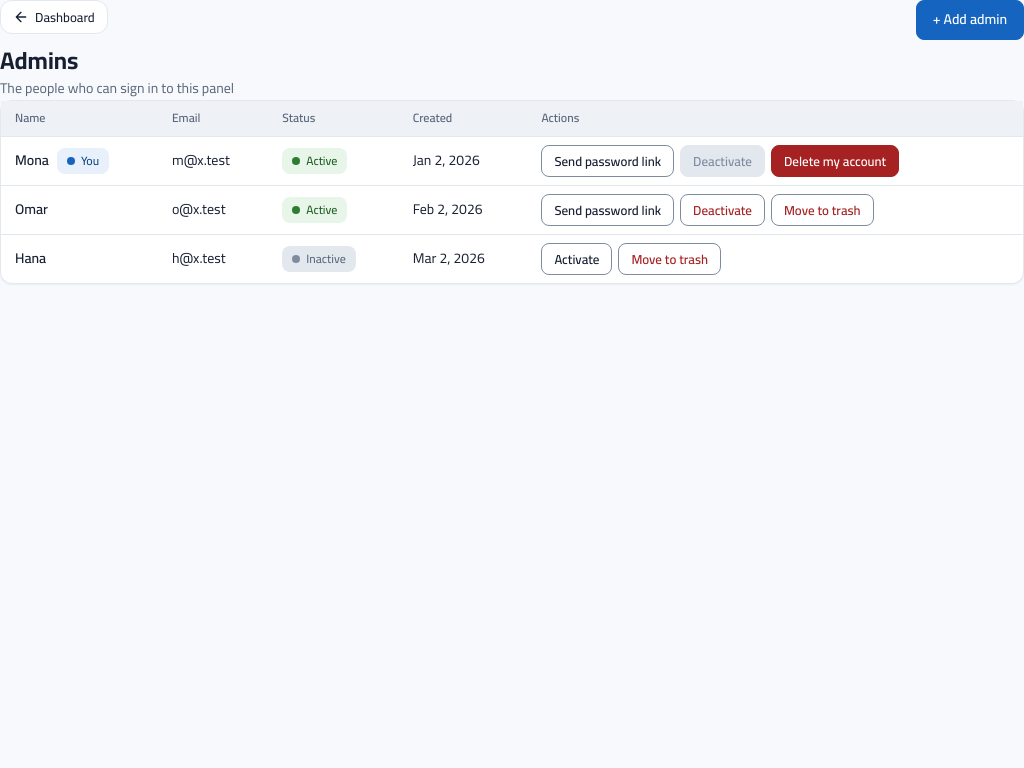
it: the admins page › offers you deleting your own account, not moving yourself to the trash
The image size is (1024, 768).
Click the button "Delete my account": (835, 161) [771,145,899,177]
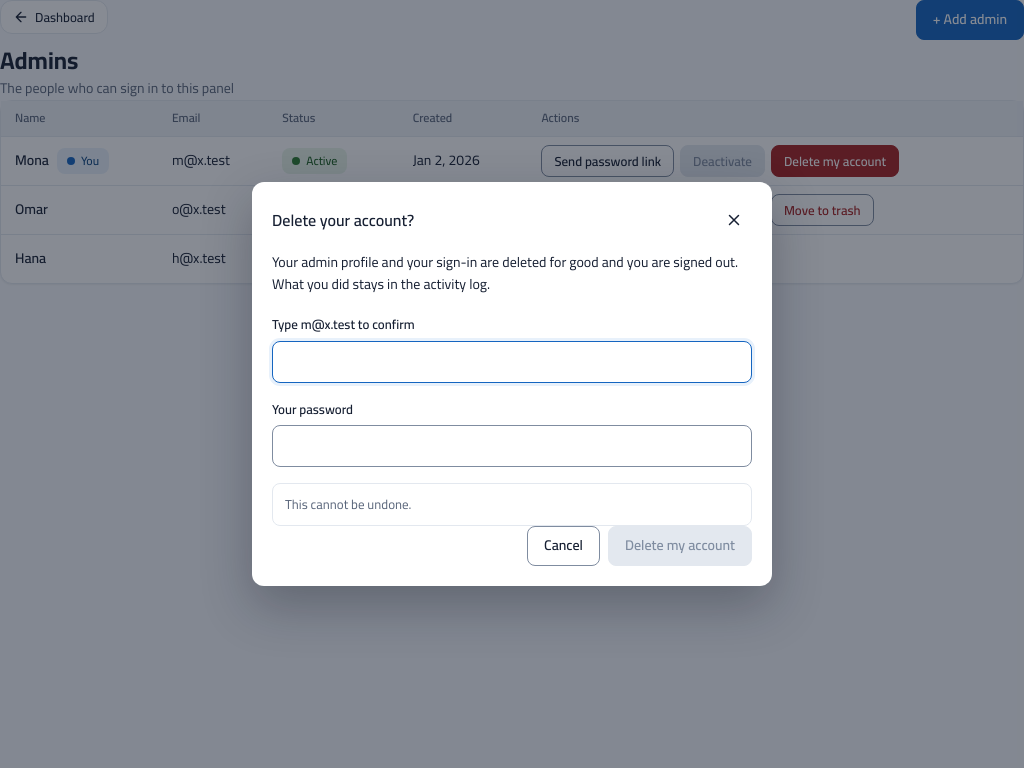
Expected: the dialog "Delete your account?" is shown, [252,182,772,586]
